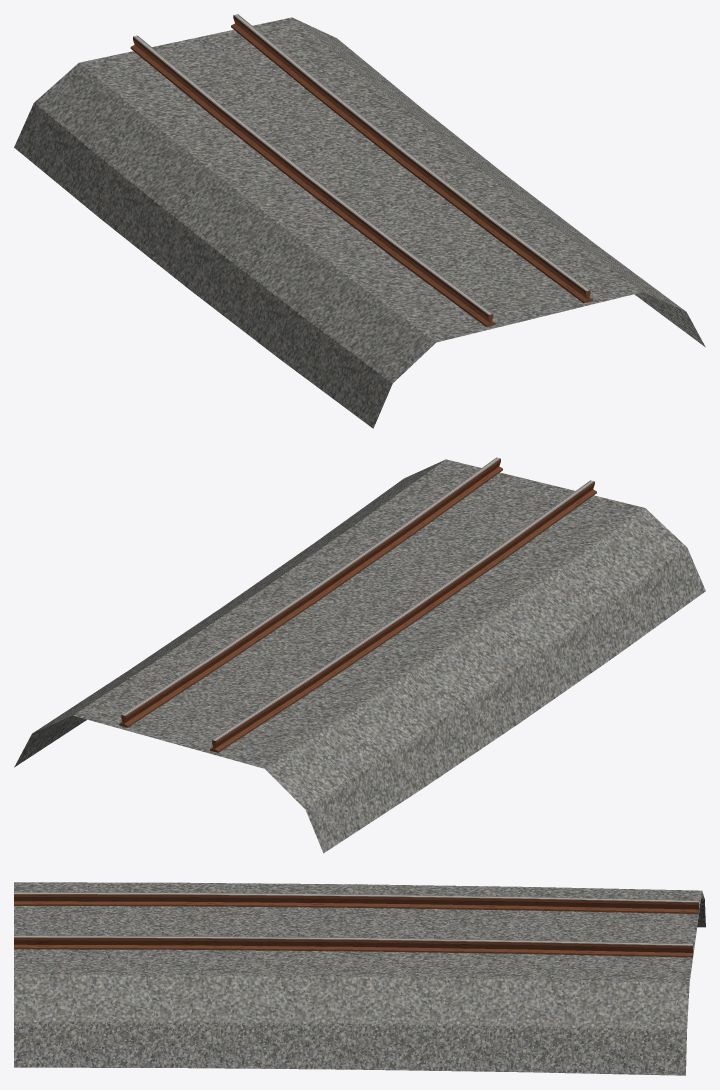
The model's file is rail_track_curve_r175_10m_r_v2_bed.glb.
3 views of the same model, one above another, from view 1: azimuth 30°, elevation 25°; view 2: azimuth 150°, elevation 25°; view 3: azimuth 270°, elevation 25° (orthographic). The views are drawn at different scales.
Parts seen in each view (by area): view 1: rail_track_curve_r175_10m_r_v2_bed; view 2: rail_track_curve_r175_10m_r_v2_bed; view 3: rail_track_curve_r175_10m_r_v2_bed.
Boxes of the visible parts, x1,y1,x2,y2 form: rail_track_curve_r175_10m_r_v2_bed: (14,14,705,428); rail_track_curve_r175_10m_r_v2_bed: (14,457,705,853); rail_track_curve_r175_10m_r_v2_bed: (14,882,705,1075).
Size of what is drawn, in the model's own units: 5.43 by 1.27 by 10.14.
Materials: 2 (2 with a texture image).
